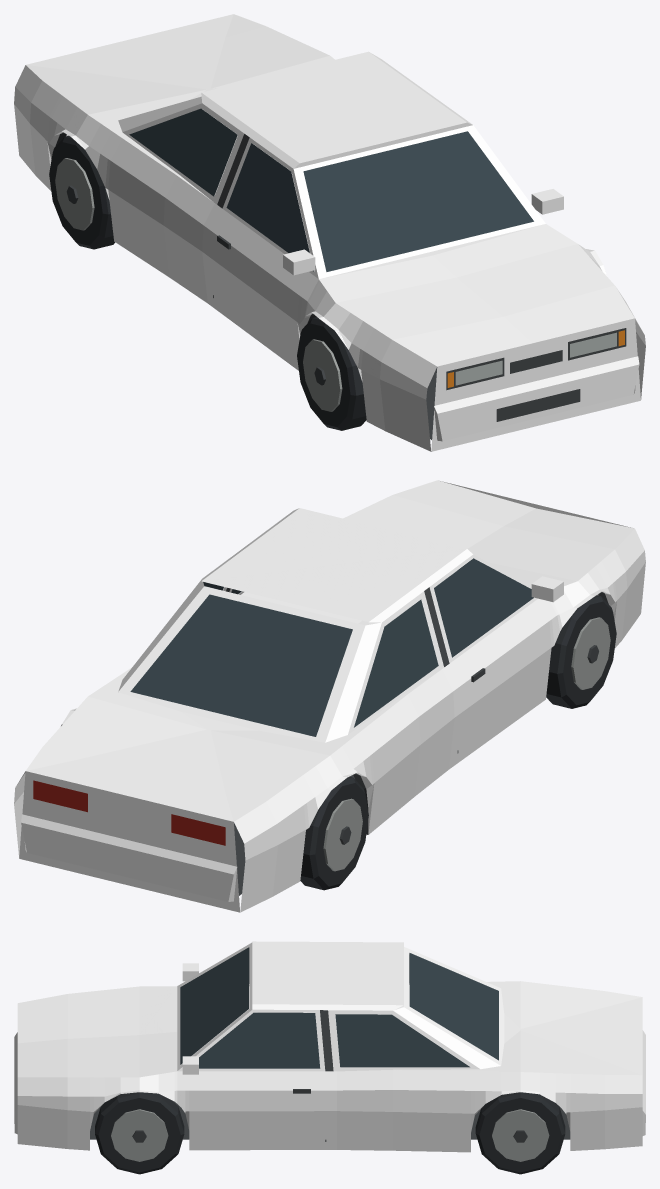
The model's file is pemberly_teal_iii.glb.
3 renders of one model, top to bottom at view 1: azimuth 30°, elevation 25°; view 2: azimuth 150°, elevation 25°; view 3: azimuth 270°, elevation 25°, orthographic. The views are drawn at different scales.
Parts seen in each view (by area): view 1: pemberly_teal_iii; view 2: pemberly_teal_iii; view 3: pemberly_teal_iii.
Boxes of the visible parts, <box> form: pemberly_teal_iii: <box>14,14,645,451</box>; pemberly_teal_iii: <box>14,480,645,912</box>; pemberly_teal_iii: <box>14,941,645,1174</box>.
Size of the model in its own units: 1.79 by 1.23 by 4.61.
8 materials, 1 textured.
